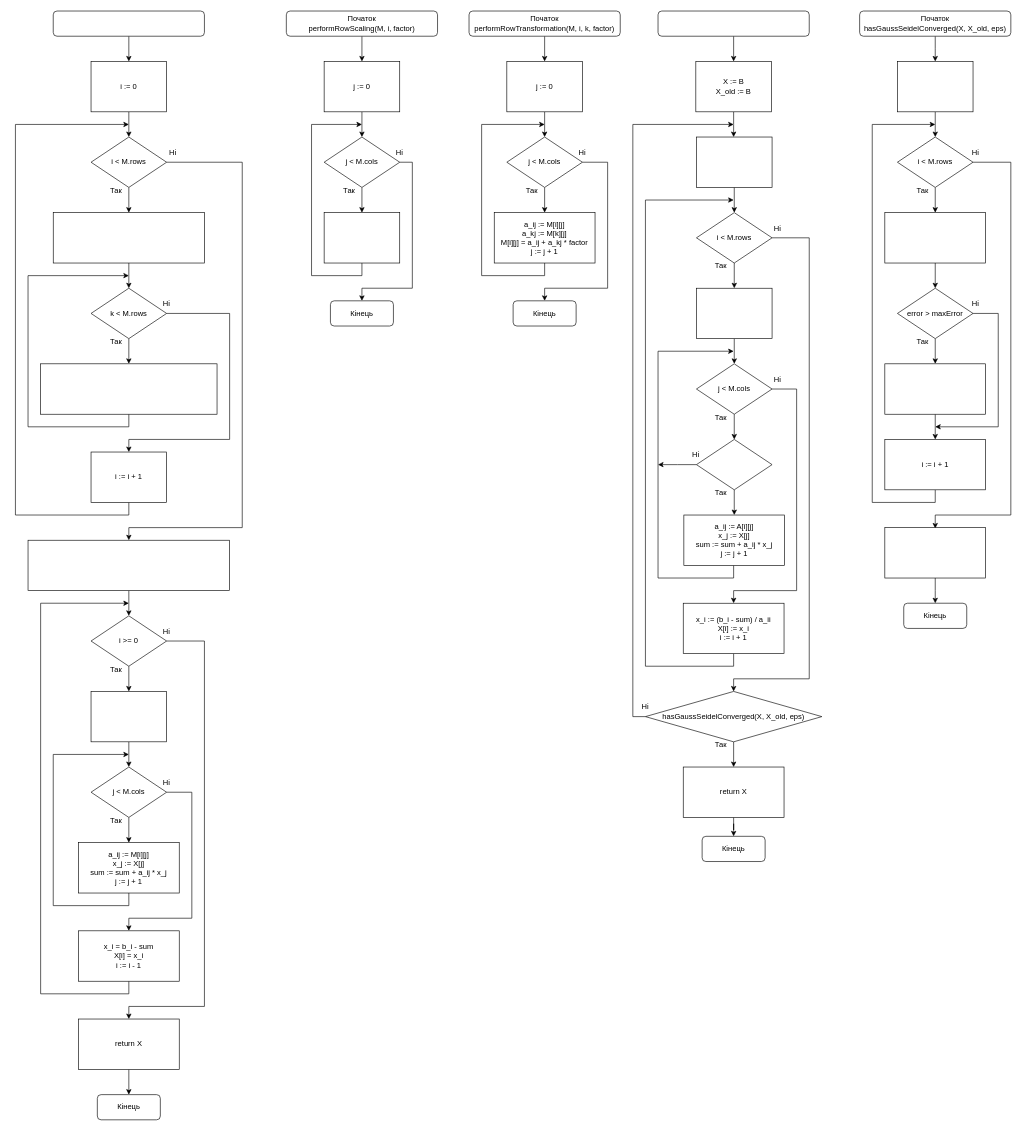
Image size: 1027x1131. Some labels were removed from this diagram. Here are the shapes that lost their labels. From the top down, the centre of each, then its label:
At (x=128, y=23): "Початок solveWithGaussElimination(M) // M = A | B".
At (x=733, y=23): "Початок solveWithGaussSeidel(A, B, eps)".
At (x=935, y=86): "maxError := 0 i := 0".
At (x=734, y=161): "X_old := X i := 0".
At (x=128, y=237): "a_ii := M[i][i] performRowScaling(M, i, 1 / a_ii) k := 0".
At (x=362, y=237): "M[i][j] := M[i][j] * factor j := j + 1".
At (x=935, y=237): "x_i := X[i] x_i_old := X_old[i] error := abs(x_i - x_i_old)".
At (x=734, y=313): "a_ii := A[i][i] b_i := B[i] sum := 0 j := 0".
At (x=128, y=388): "a_ki = M[k][i] performRowTransformation(M, k, i, -1 * a_ki) k := k + 1".
At (x=935, y=388): "maxError := error".
At (x=734, y=464): "j != i".
At (x=128, y=565): "X := [a_1, a_2, ... a_n], де a_i = 0 i n = M.rows i := M.rows - 1".
At (x=935, y=552): "return maxError < eps".
At (x=128, y=716): "b_i := M[i][M.cols - 1] sum := 0 j := i + 1".
